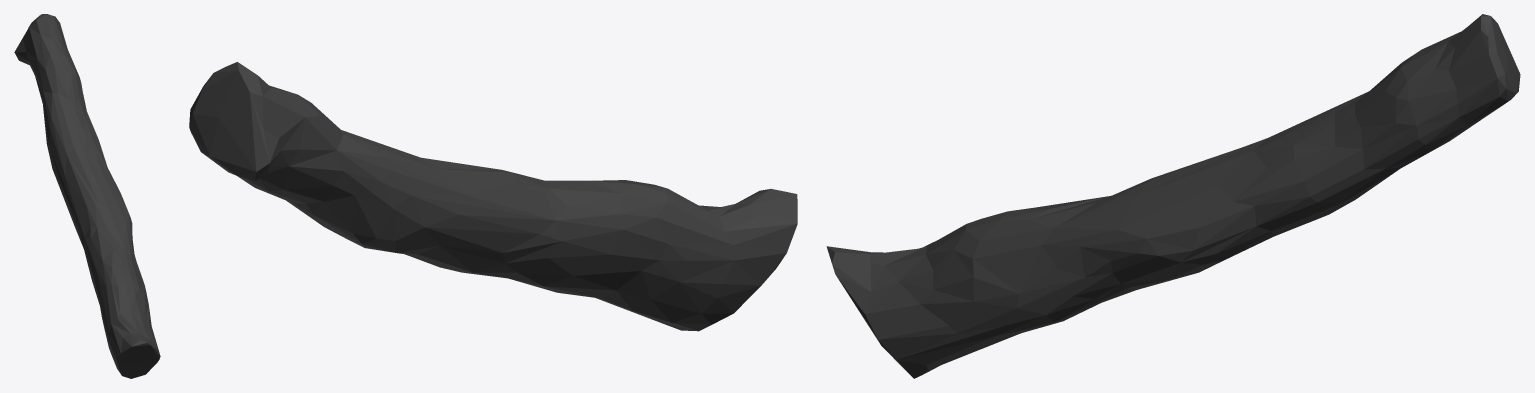
File: Int_iliac_vv_L.glb
The picture shows the model from 3 angles, left to right: view 1: azimuth 30°, elevation 25°; view 2: azimuth 150°, elevation 25°; view 3: azimuth 270°, elevation 25°; orthographic projection. The views are drawn at different scales.
Parts seen in each view (by area): view 1: Int_iliac_vv_L; view 2: Int_iliac_vv_L; view 3: Int_iliac_vv_L.
Part boxes in pixels (x1,y1,x2,y2): Int_iliac_vv_L: (14,14,160,378); Int_iliac_vv_L: (189,62,797,331); Int_iliac_vv_L: (826,14,1520,378).
Size of the model in its own units: 0.0854 by 0.1548 by 0.2335.
1 material, 1 textured.
